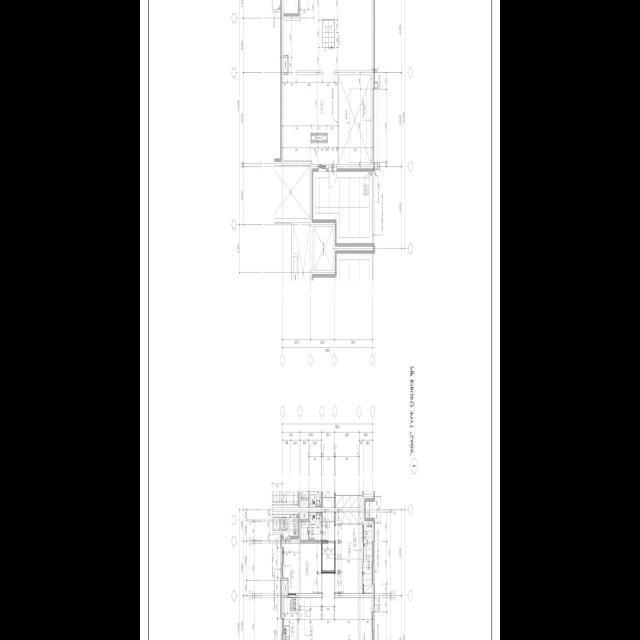background: (140, 0, 500, 640)
space_balconi: (364, 524, 372, 593), (273, 514, 298, 535)
space_bedroom: (323, 511, 362, 593), (284, 543, 321, 593)
space_elevator: (314, 226, 333, 270)
space_kitchen: (284, 597, 323, 640)
space_living_room: (322, 573, 372, 640)
space_other: (312, 135, 327, 140), (283, 580, 287, 595), (301, 500, 308, 507), (301, 511, 308, 518), (284, 57, 287, 72)
space_staircase: (322, 20, 334, 47)
space_toilet: (301, 512, 321, 540)
